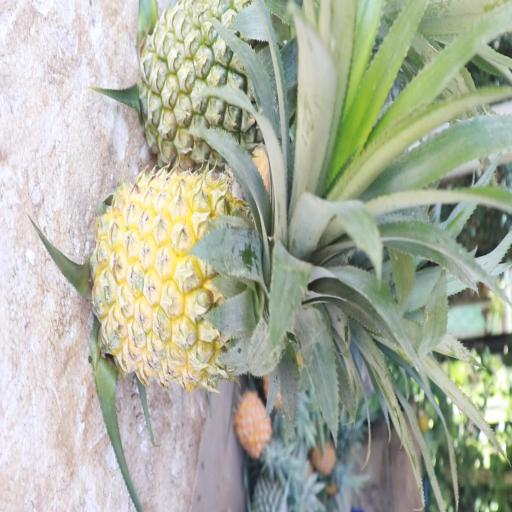------------------------------: (146, 0, 308, 167)
Pineapple - v8 v1: (90, 180, 296, 383), (236, 387, 270, 455)
